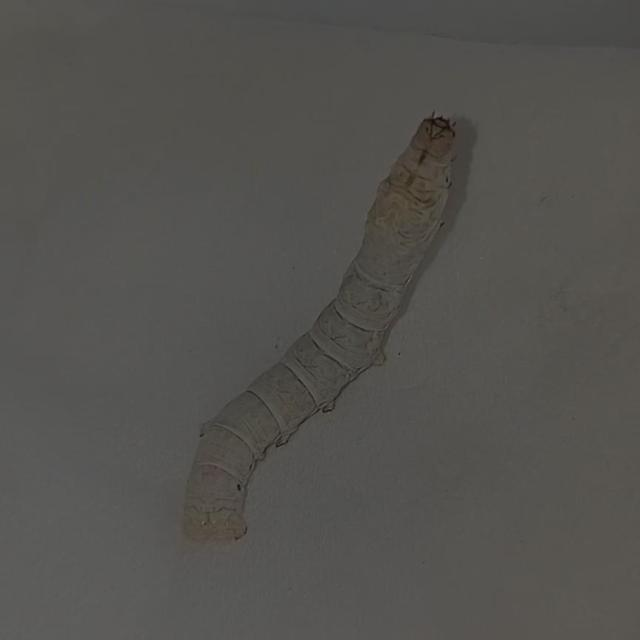Healthy: (158, 89, 492, 565)
